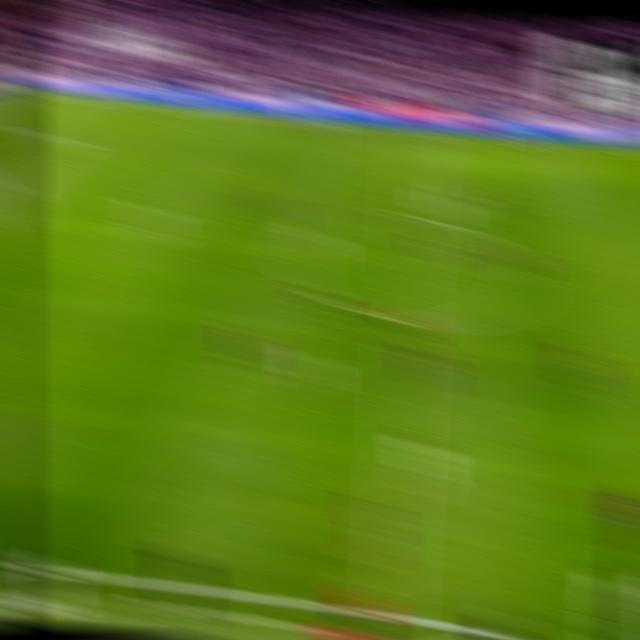bigarea_top_inner: (52, 127, 85, 148)
halfcircle_bottom: (389, 309, 423, 332)
halfcircle_top: (395, 203, 429, 230)
midline_bottom_intersection: (374, 602, 410, 627)
midline_top_intersection: (401, 123, 432, 142)
top_arc_area_intersection: (0, 171, 27, 190)
